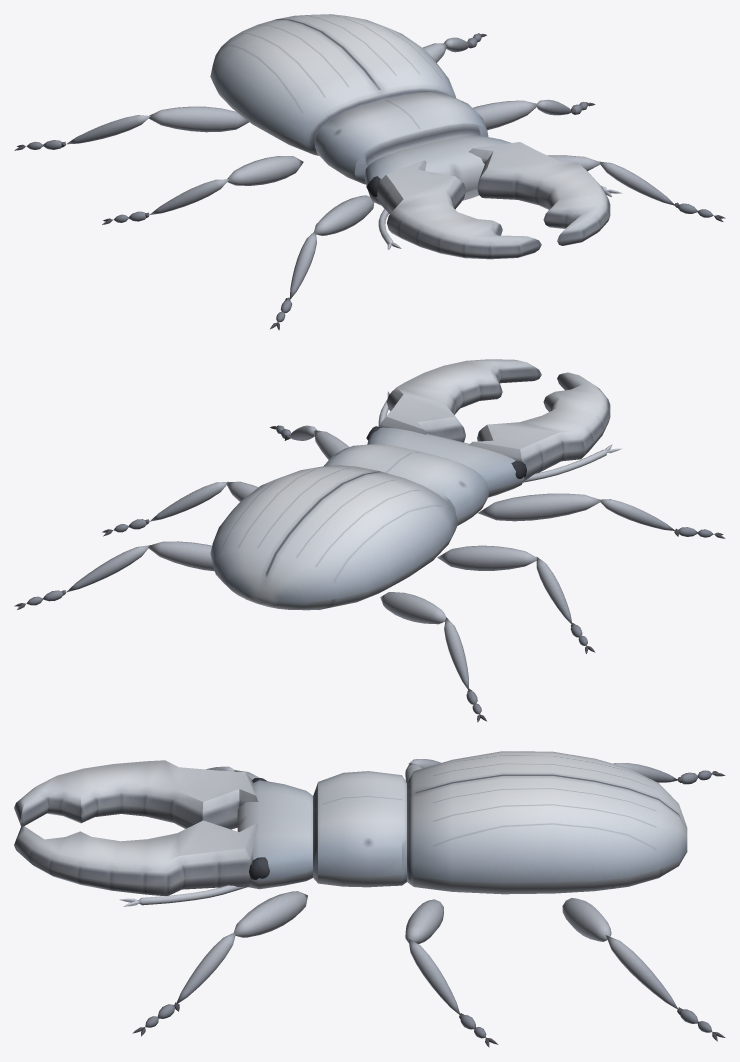
The model's file is KingWhiteStagBeetle.fbx.
3 renders of one model, top to bottom at view 1: azimuth 30°, elevation 25°; view 2: azimuth 150°, elevation 25°; view 3: azimuth 270°, elevation 25°, orthographic. The views are drawn at different scales.
Visible parts, largest first — view 1: KWSB_Body, KWSB_Mandible_L, KWSB_Mandible_R, KWSB_Leg_Rear_L, KWSB_Leg_Mid_L, KWSB_Leg_Front_L, KWSB_Leg_Mid_R, KWSB_Leg_Front_R, KWSB_Leg_Rear_R; view 2: KWSB_Body, KWSB_Mandible_L, KWSB_Mandible_R, KWSB_Leg_Front_L, KWSB_Leg_Mid_L, KWSB_Leg_Rear_R, KWSB_Leg_Rear_L, KWSB_Leg_Mid_R, KWSB_Leg_Front_R, KWSB_Antenna_L; view 3: KWSB_Body, KWSB_Mandible_R, KWSB_Mandible_L, KWSB_Leg_Front_R, KWSB_Leg_Rear_R, KWSB_Leg_Mid_R, KWSB_Antenna_R, KWSB_Leg_Rear_L.
Boxes of the visible parts, x1,y1,x2,y2 form: KWSB_Body: (210, 14, 510, 205); KWSB_Mandible_L: (377, 160, 541, 259); KWSB_Mandible_R: (468, 142, 610, 245); KWSB_Leg_Rear_L: (14, 106, 249, 150); KWSB_Leg_Mid_L: (102, 156, 303, 224); KWSB_Leg_Front_L: (270, 195, 374, 330); KWSB_Leg_Mid_R: (473, 99, 595, 130); KWSB_Leg_Front_R: (547, 155, 725, 221); KWSB_Leg_Rear_R: (423, 33, 486, 62); KWSB_Body: (210, 426, 526, 610); KWSB_Mandible_L: (468, 372, 610, 481); KWSB_Mandible_R: (378, 359, 541, 442); KWSB_Leg_Front_L: (478, 493, 725, 538); KWSB_Leg_Mid_L: (437, 545, 595, 653); KWSB_Leg_Rear_R: (14, 541, 214, 609); KWSB_Leg_Rear_L: (380, 592, 486, 722); KWSB_Leg_Mid_R: (102, 481, 258, 536); KWSB_Leg_Front_R: (270, 425, 348, 459); KWSB_Antenna_L: (523, 444, 621, 482); KWSB_Body: (237, 751, 687, 894); KWSB_Mandible_R: (14, 820, 258, 895); KWSB_Mandible_L: (14, 760, 258, 829); KWSB_Leg_Front_R: (132, 891, 307, 1036); KWSB_Leg_Rear_R: (562, 898, 725, 1041); KWSB_Leg_Mid_R: (405, 899, 498, 1047); KWSB_Antenna_R: (119, 885, 247, 906); KWSB_Leg_Rear_L: (613, 763, 725, 784).
Bounding box in the file's own units: 0.3968 × 0.0868 × 0.4243.
1 material, 1 textured.
